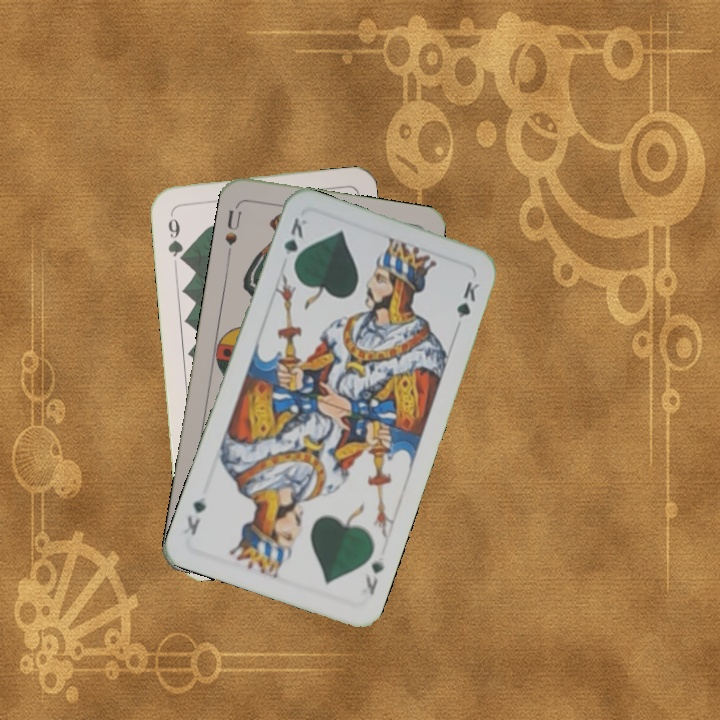G9: (164, 207, 188, 265)
GK: (280, 213, 310, 271), (360, 557, 387, 598)
SU: (221, 200, 244, 259)
